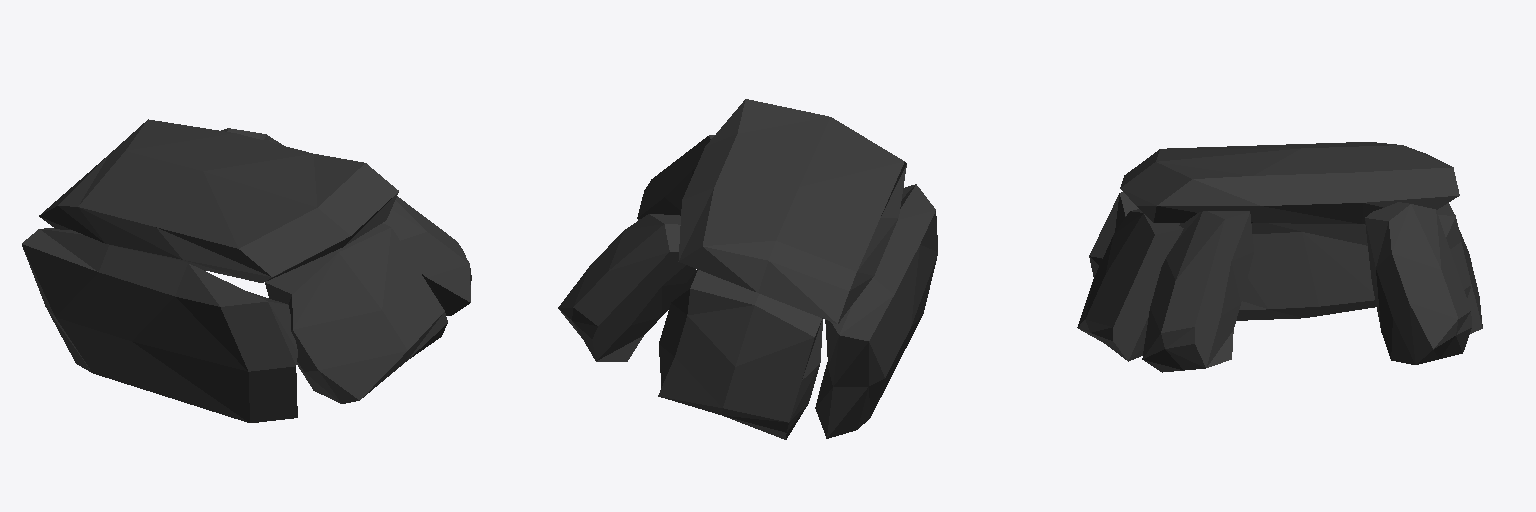
The model's file is cave.obj.
3 views of the same model, side by side, from view 1: azimuth 30°, elevation 25°; view 2: azimuth 150°, elevation 25°; view 3: azimuth 270°, elevation 25° (orthographic).
Visible parts, largest first — view 1: Cave; view 2: Cave; view 3: Cave.
Boxes of the visible parts, x1=… form: Cave: x1=22, y1=119, x2=471, y2=422; Cave: x1=558, y1=99, x2=937, y2=439; Cave: x1=1077, y1=142, x2=1482, y2=372.
Size of the model in its own units: 3.34 by 2.07 by 3.5.